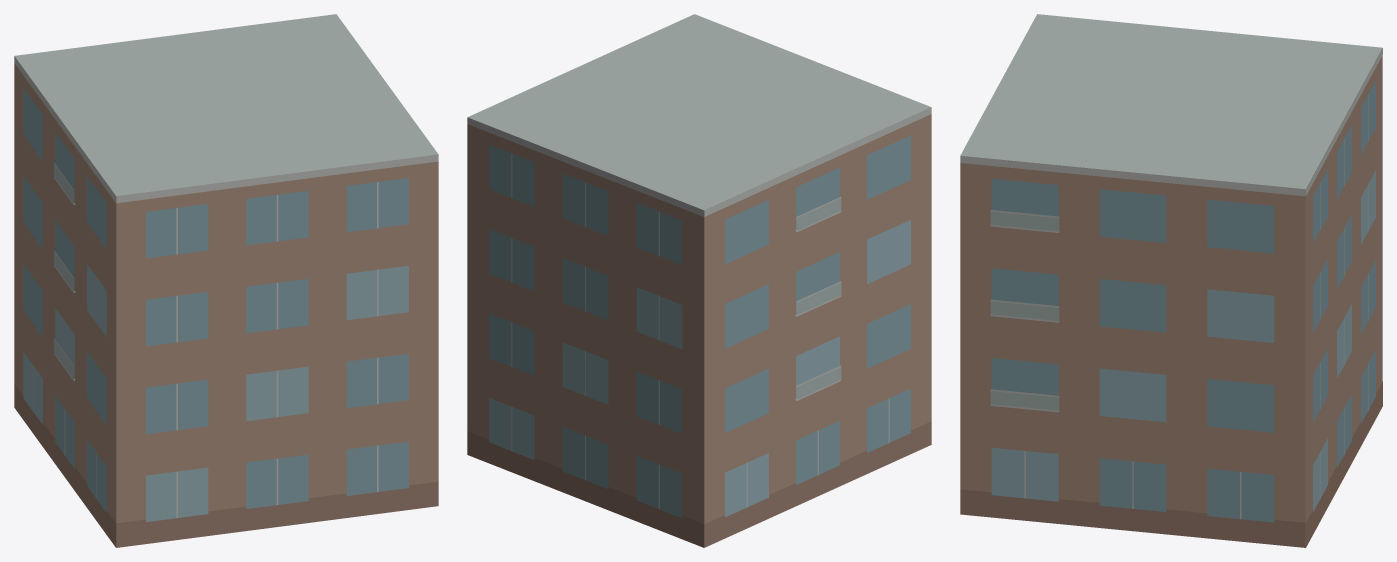
Rendered from residential-b39d6fba-b700-4dda-b001-d07f0e6dd484.glb.
3 renders of one model, left to right at view 1: azimuth 30°, elevation 25°; view 2: azimuth 150°, elevation 25°; view 3: azimuth 270°, elevation 25°, orthographic. The views are drawn at different scales.
Visible parts, largest first — view 1: residential-b39d6fba-b700-4dda-b001-d07f0e6dd484.tmp; view 2: residential-b39d6fba-b700-4dda-b001-d07f0e6dd484.tmp; view 3: residential-b39d6fba-b700-4dda-b001-d07f0e6dd484.tmp.
Boxes of the visible parts, left/top/right/bottom form: residential-b39d6fba-b700-4dda-b001-d07f0e6dd484.tmp: left=14, top=14, right=438, bottom=547; residential-b39d6fba-b700-4dda-b001-d07f0e6dd484.tmp: left=467, top=14, right=931, bottom=547; residential-b39d6fba-b700-4dda-b001-d07f0e6dd484.tmp: left=960, top=14, right=1382, bottom=547.
Bounding box in the file's own units: 12.79 × 12.2 × 13.04.
